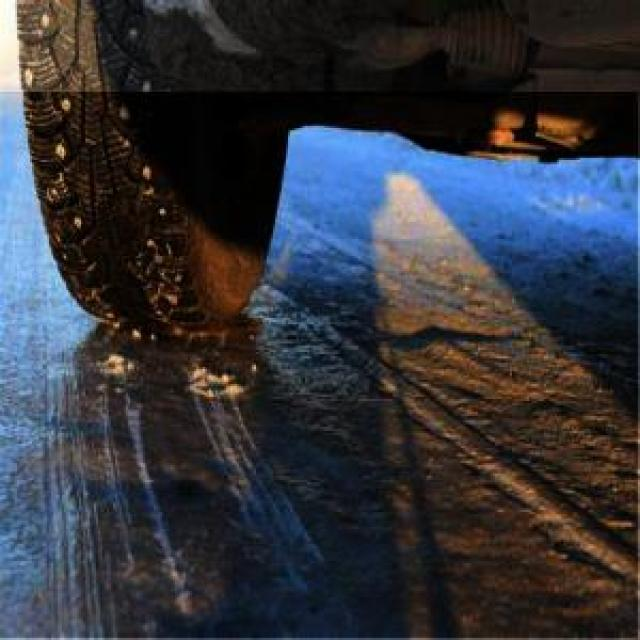ice-road: (1, 93, 640, 638)
